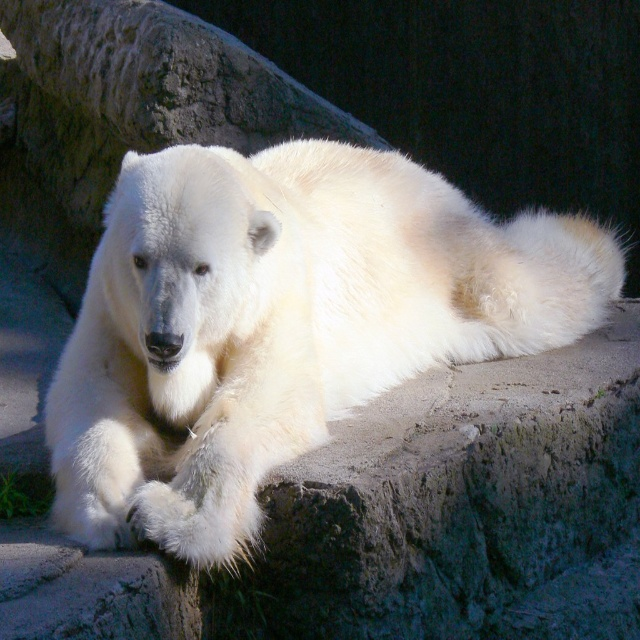Polar bear: (50, 138, 630, 576)
